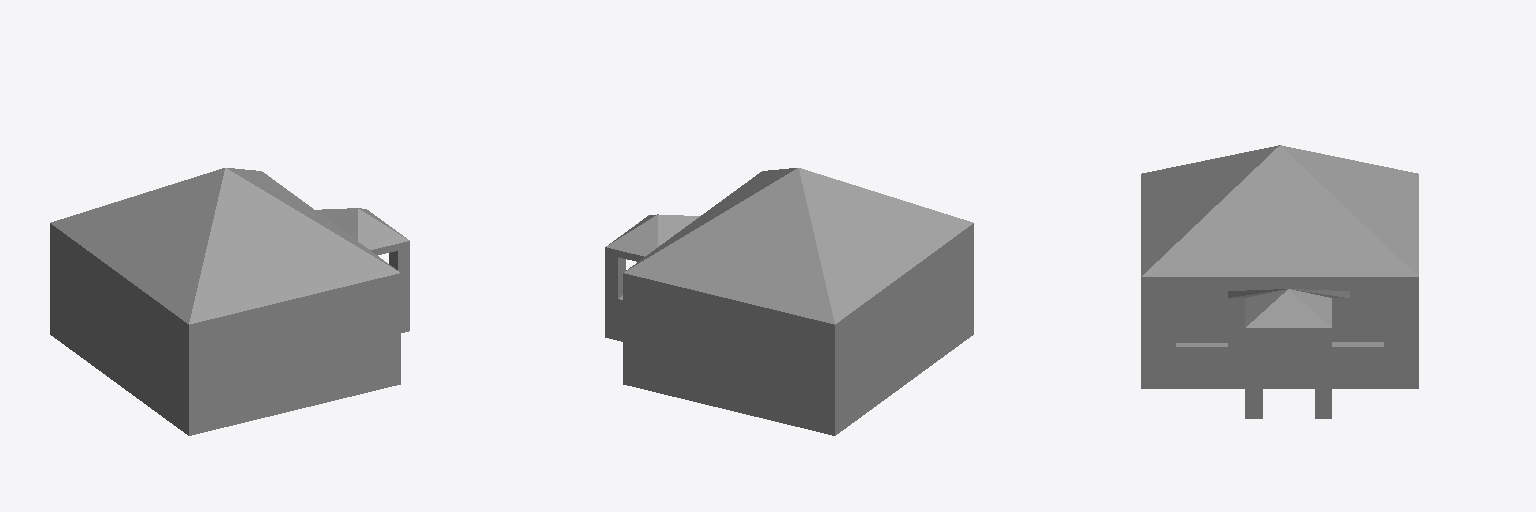
The model's file is Bungalo1.obj.
3 renders of one model, left to right at view 1: azimuth 30°, elevation 25°; view 2: azimuth 150°, elevation 25°; view 3: azimuth 270°, elevation 25°, orthographic.
Visible parts, largest first — view 1: Cube; view 2: Cube; view 3: Cube.
Part boxes in pixels (x1,y1,x2,y2): Cube: (50,168,409,435); Cube: (605,168,973,435); Cube: (1141,145,1418,418).
Bounding box in the file's own units: 5.13 × 3.44 × 4.53.